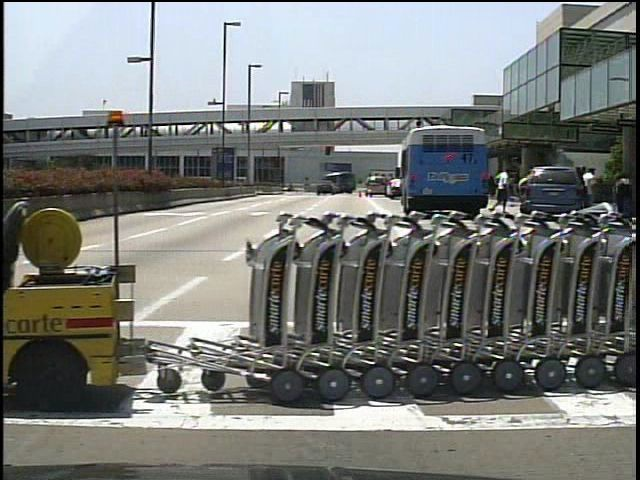person: (580, 165, 601, 214), (494, 166, 513, 216), (516, 168, 535, 216)
